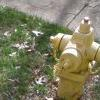Hydrant: (45, 12, 100, 100)
